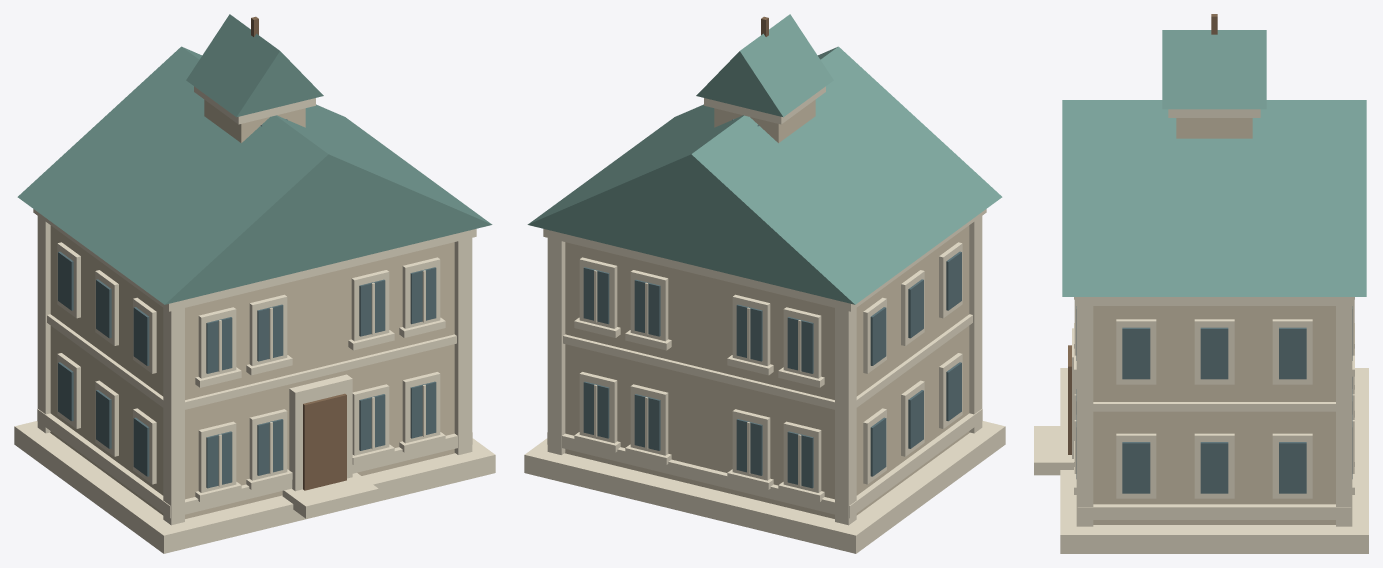
File: sample-building.glb
3 renders of one model, left to right at view 1: azimuth 30°, elevation 25°; view 2: azimuth 150°, elevation 25°; view 3: azimuth 270°, elevation 25°, orthographic. The views are drawn at different scales.
Visible parts, largest first — view 1: Pitched roof, Main facade, Foundation, Corner pilaster (×3), Window glass (×8), Window frame (×8), Tower cap, Side glass (×6), Side frame (×6), Lower cornice, Middle stringcourse, Oak door (+5 smaller); view 2: Pitched roof, Main facade, Foundation, Corner pilaster (×3), Window glass (×8), Window frame (×8), Tower cap, Lower cornice, Side glass (×6), Side frame (×6), Middle stringcourse, Eaves (+2 smaller); view 3: Pitched roof, Main facade, Foundation, Side glass (×6), Tower cap, Side frame (×6), Corner pilaster (×2), Lower cornice, Eaves, Middle stringcourse, Entrance step, Lantern tower (+2 smaller).
Boxes of the visible parts, x1=… form: Pitched roof: x1=17, y1=46, x2=492, y2=304; Main facade: x1=50, y1=225, x2=454, y2=518; Foundation: x1=14, y1=421, x2=495, y2=553; Corner pilaster (×3): x1=37, y1=216, x2=472, y2=525; Window glass (×8): x1=206, y1=267, x2=436, y2=488; Window frame (×8): x1=198, y1=257, x2=440, y2=492; Tower cap: x1=186, y1=14, x2=323, y2=117; Side glass (×6): x1=58, y1=251, x2=149, y2=476; Side frame (×6): x1=57, y1=242, x2=156, y2=484; Lower cornice: x1=37, y1=409, x2=472, y2=518; Middle stringcourse: x1=47, y1=314, x2=456, y2=409; Oak door: x1=303, y1=393, x2=346, y2=490; Pitched roof: x1=527, y1=46, x2=1002, y2=304; Main facade: x1=565, y1=225, x2=969, y2=518; Foundation: x1=524, y1=421, x2=1005, y2=553; Corner pilaster (×3): x1=547, y1=216, x2=982, y2=525; Window glass (×8): x1=583, y1=267, x2=813, y2=488; Window frame (×8): x1=579, y1=257, x2=821, y2=492; Tower cap: x1=696, y1=14, x2=833, y2=117; Lower cornice: x1=547, y1=409, x2=982, y2=518; Side glass (×6): x1=870, y1=251, x2=961, y2=476; Side frame (×6): x1=863, y1=242, x2=962, y2=484; Middle stringcourse: x1=563, y1=314, x2=972, y2=409; Eaves: x1=543, y1=209, x2=986, y2=311; Pitched roof: x1=1062, y1=100, x2=1366, y2=296; Main facade: x1=1093, y1=306, x2=1335, y2=524; Foundation: x1=1060, y1=368, x2=1368, y2=553; Side glass (×6): x1=1122, y1=327, x2=1306, y2=493; Tower cap: x1=1162, y1=30, x2=1266, y2=109; Side frame (×6): x1=1116, y1=319, x2=1312, y2=498; Corner pilaster (×2): x1=1076, y1=306, x2=1352, y2=526; Lower cornice: x1=1077, y1=504, x2=1351, y2=519; Eaves: x1=1074, y1=297, x2=1354, y2=305; Middle stringcourse: x1=1093, y1=402, x2=1335, y2=411; Entrance step: x1=1034, y1=426, x2=1073, y2=475; Lantern tower: x1=1176, y1=118, x2=1252, y2=138.
Size of the model in its own units: 4.55 by 5.78 by 3.85.
